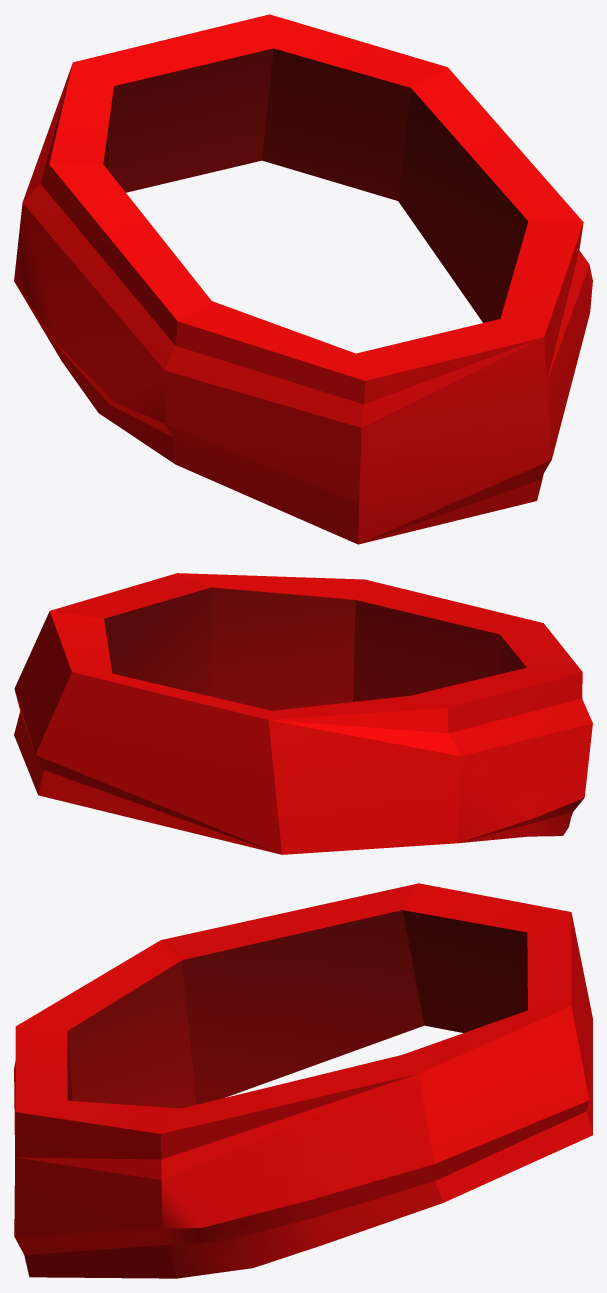
File: Blindfold_F.fbx
The picture shows the model from 3 angles, top to bottom: view 1: azimuth 30°, elevation 25°; view 2: azimuth 150°, elevation 25°; view 3: azimuth 270°, elevation 25°; orthographic projection. The views are drawn at different scales.
Parts seen in each view (by area): view 1: Blindfold_F; view 2: Blindfold_F; view 3: Blindfold_F.
Boxes of the visible parts, x1=… form: Blindfold_F: x1=14, y1=14, x2=592, y2=544; Blindfold_F: x1=14, y1=573, x2=592, y2=854; Blindfold_F: x1=14, y1=883, x2=592, y2=1278.
Size of the model in its own units: 26.92 by 15.03 by 28.6.
